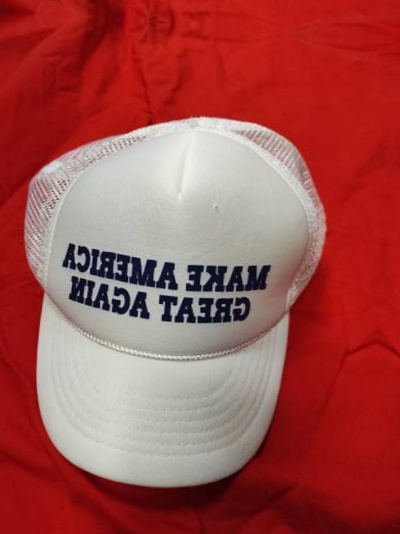Hat: (0, 75, 347, 511)
